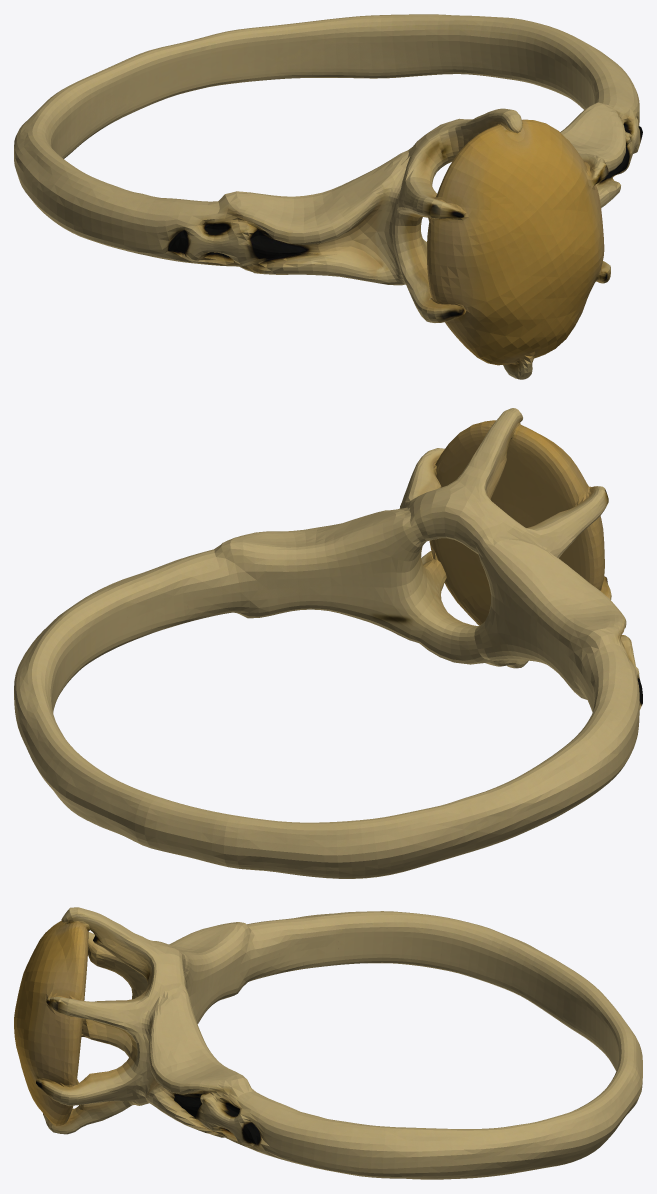
The model's file is pearl-ring.glb.
3 renders of one model, top to bottom at view 1: azimuth 30°, elevation 25°; view 2: azimuth 150°, elevation 25°; view 3: azimuth 270°, elevation 25°, orthographic. The views are drawn at different scales.
Visible parts, largest first — view 1: tripo_part_7, tripo_part_0; view 2: tripo_part_7, tripo_part_0; view 3: tripo_part_7, tripo_part_0.
Part boxes in pixels (x1,y1,x2,y2): tripo_part_7: (14,14,642,379); tripo_part_0: (427,119,604,375); tripo_part_7: (14,408,642,878); tripo_part_0: (429,420,604,668); tripo_part_7: (36,907,642,1179); tripo_part_0: (14,920,128,1132).
Size of the model in its own units: 0.8636 by 0.3864 by 0.9804.
Materials: 2 (2 with a texture image).
